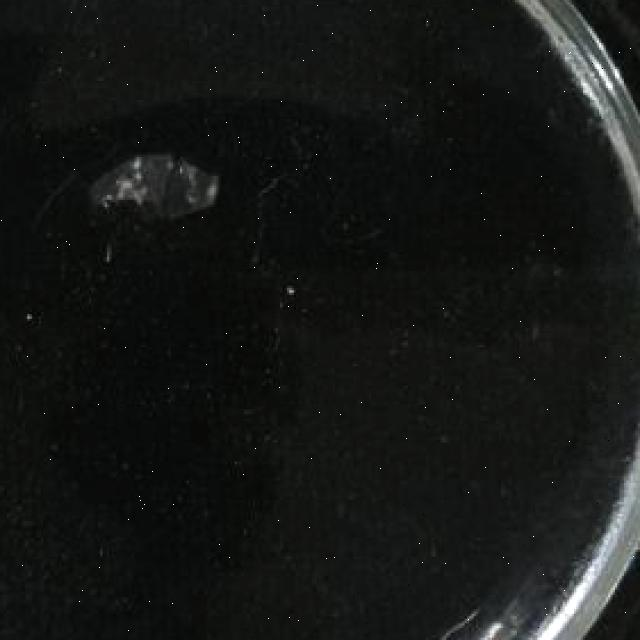Microplastic: (80, 131, 234, 231)
